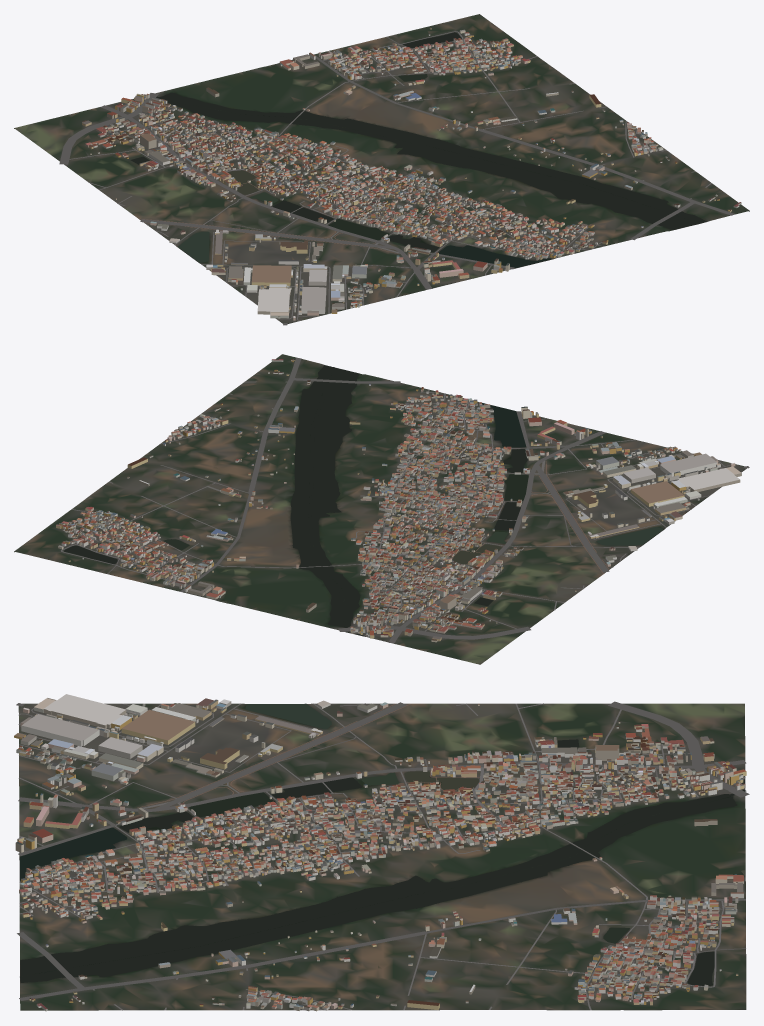
The picture shows the model from 3 angles, top to bottom: view 1: azimuth 30°, elevation 25°; view 2: azimuth 150°, elevation 25°; view 3: azimuth 270°, elevation 25°; orthographic projection. The views are drawn at different scales.
Visible parts, largest first — view 1: ground, buildings, water, roads; view 2: ground, buildings, water, roads; view 3: ground, buildings, water, roads.
Part boxes in pixels (bbox=[...]): ground: bbox=[14, 14, 749, 323]; buildings: bbox=[82, 27, 741, 320]; water: bbox=[130, 32, 706, 267]; roads: bbox=[59, 31, 734, 325]; ground: bbox=[14, 354, 748, 664]; buildings: bbox=[56, 359, 741, 642]; water: bbox=[64, 365, 663, 635]; roads: bbox=[61, 358, 749, 643]; ground: bbox=[18, 703, 746, 1010]; buildings: bbox=[14, 694, 746, 1011]; water: bbox=[20, 703, 746, 985]; roads: bbox=[16, 701, 749, 1010].
Size of the model in its own units: 1431 by 28.61 by 1421.
